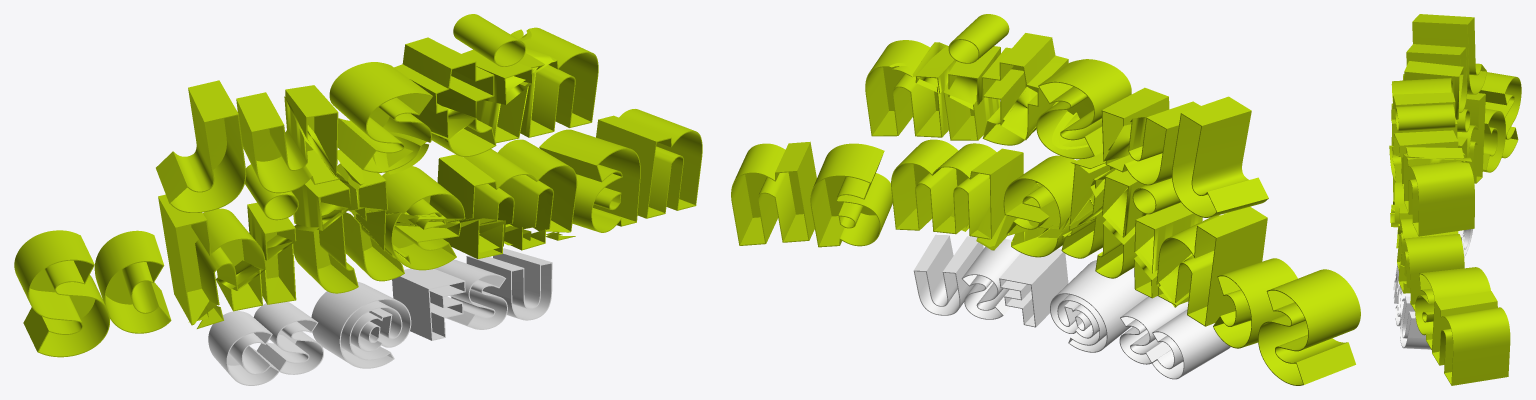
The model's file is JSTitleScreen.gltf.
3 views of the same model, side by side, from view 1: azimuth 30°, elevation 25°; view 2: azimuth 150°, elevation 25°; view 3: azimuth 270°, elevation 25° (orthographic). The views are drawn at different scales.
Parts seen in each view (by area): view 1: Justin Schilleman, CS @ FSU; view 2: Justin Schilleman, CS @ FSU; view 3: Justin Schilleman, CS @ FSU.
Part boxes in pixels (x1,y1,x2,y2): Justin Schilleman: [14, 14, 702, 357]; CS @ FSU: [208, 248, 552, 385]; Justin Schilleman: [731, 14, 1360, 385]; CS @ FSU: [913, 234, 1230, 379]; Justin Schilleman: [1389, 14, 1521, 385]; CS @ FSU: [1393, 229, 1472, 349].
Bounding box in the file's own units: 10.04 × 4.37 × 2.2.
